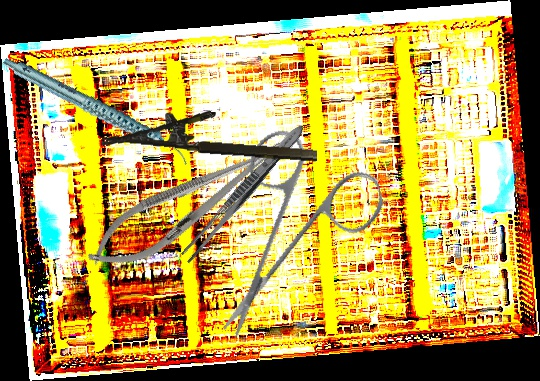Dressing Forceps: (178, 120, 309, 266)
Handpiece: (1, 23, 192, 199)
Iris Scissors: (177, 109, 408, 340)
Needle Holder: (75, 122, 299, 287), (101, 102, 320, 164)
